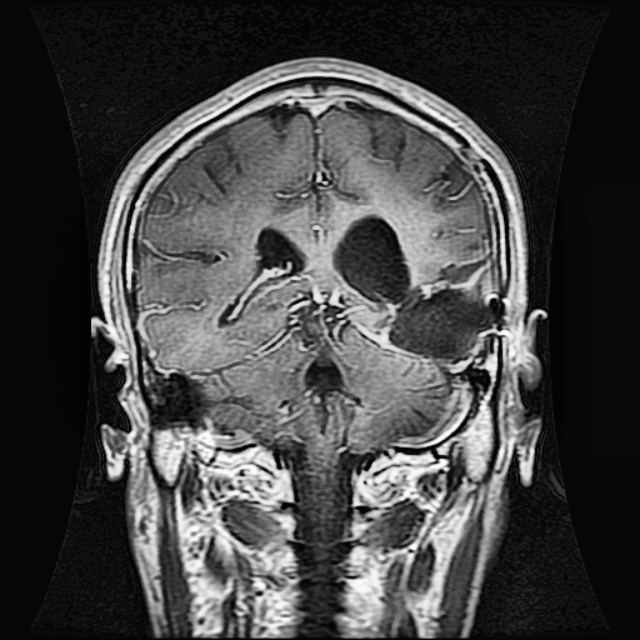Meningioma: (330, 214, 498, 369)
